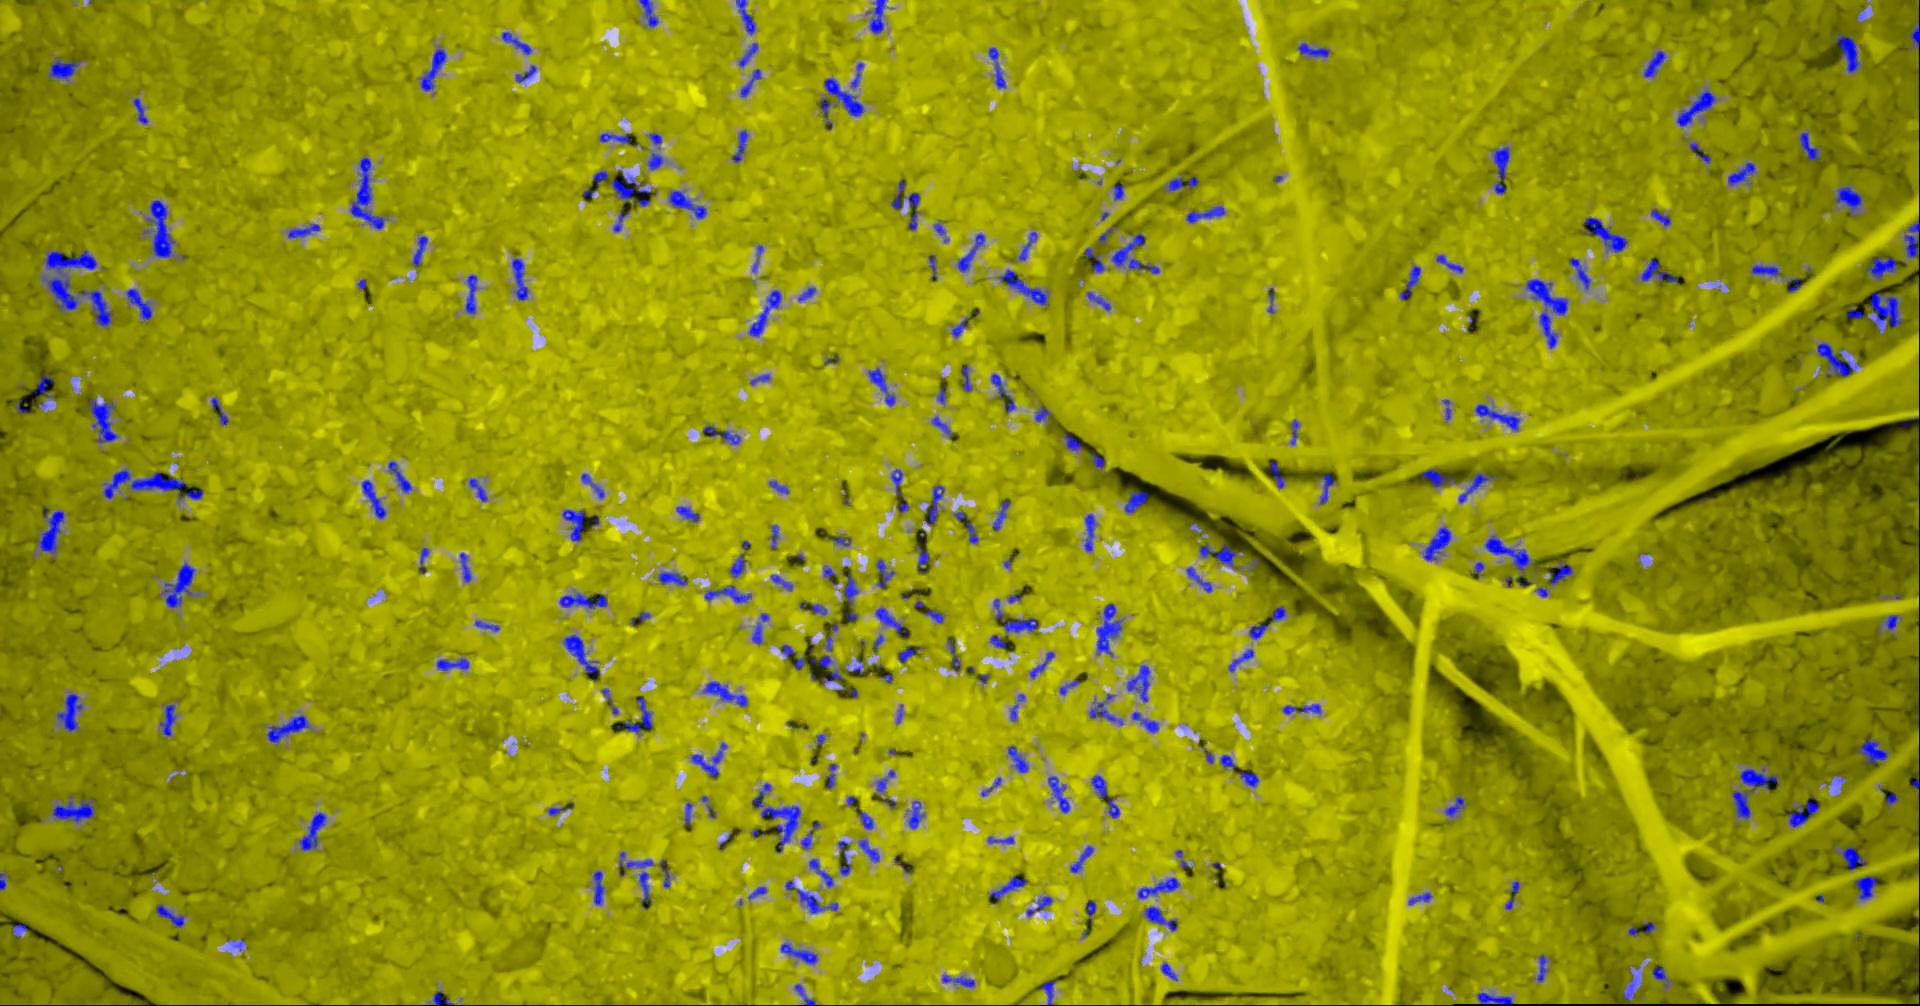ant: (750, 782, 800, 852), (103, 469, 202, 500), (1525, 278, 1567, 348), (349, 158, 387, 229), (1111, 232, 1159, 273), (618, 851, 653, 907), (997, 269, 1048, 304), (785, 880, 837, 913), (563, 634, 599, 680), (1484, 535, 1531, 570), (161, 561, 197, 607), (146, 199, 174, 257), (748, 290, 781, 337), (823, 77, 863, 116), (993, 598, 1037, 633), (890, 179, 919, 230), (1583, 217, 1627, 251), (1676, 89, 1716, 126), (88, 398, 117, 442), (1870, 291, 1902, 332), (1096, 603, 1121, 654), (691, 742, 726, 777), (77, 290, 112, 326), (1816, 342, 1853, 376), (37, 506, 63, 553), (1474, 403, 1519, 431), (1090, 775, 1119, 817), (265, 714, 309, 742), (618, 697, 651, 732), (702, 681, 747, 706), (1458, 473, 1495, 502), (420, 48, 446, 90), (668, 191, 706, 218), (298, 812, 326, 850), (1832, 33, 1859, 72), (1785, 795, 1818, 827), (957, 232, 984, 271), (1641, 258, 1683, 282), (52, 796, 94, 821), (874, 607, 908, 636), (361, 479, 386, 518), (867, 368, 894, 405), (56, 694, 83, 730), (610, 175, 650, 199), (988, 875, 1026, 901), (1738, 767, 1778, 791), (1422, 527, 1450, 560), (990, 373, 1015, 412), (1137, 876, 1178, 898), (1199, 542, 1236, 567), (1126, 664, 1149, 701), (1834, 185, 1862, 215), (1857, 737, 1887, 763), (559, 592, 607, 608), (1048, 775, 1069, 812), (1492, 146, 1509, 193), (703, 586, 750, 602), (126, 288, 151, 319), (1144, 906, 1176, 930), (1090, 701, 1123, 724), (924, 485, 943, 525), (780, 942, 817, 963), (510, 258, 528, 300), (808, 857, 833, 887), (387, 461, 411, 492), (1865, 257, 1897, 279), (702, 426, 740, 445), (1568, 257, 1590, 290), (582, 170, 608, 197), (502, 30, 531, 55), (735, 0, 756, 34), (48, 57, 79, 80), (561, 509, 583, 541), (1029, 652, 1054, 678), (1069, 845, 1093, 873), (155, 903, 183, 927), (865, 0, 885, 33), (1399, 265, 1420, 298), (988, 47, 1004, 86), (1185, 206, 1224, 222), (1186, 567, 1211, 592), (1839, 846, 1865, 870), (1727, 163, 1755, 185), (1420, 469, 1454, 486), (1643, 50, 1665, 77), (1903, 218, 1919, 258), (582, 473, 604, 498), (1549, 559, 1572, 584), (1007, 746, 1029, 772), (1799, 131, 1818, 160), (1228, 649, 1253, 671), (159, 702, 175, 735), (637, 0, 658, 27), (992, 499, 1010, 530), (750, 614, 768, 644), (1131, 711, 1158, 732), (740, 69, 759, 97), (1435, 254, 1463, 273), (463, 274, 477, 312), (1855, 875, 1877, 899), (1018, 231, 1036, 260), (876, 559, 894, 588), (1732, 790, 1750, 819), (1083, 246, 1103, 272), (1026, 895, 1051, 916), (731, 130, 747, 163), (843, 572, 858, 605), (33, 373, 53, 398), (1269, 459, 1285, 488), (210, 398, 227, 424), (876, 768, 894, 795), (1476, 992, 1512, 1005), (931, 417, 952, 438), (411, 235, 427, 265), (1319, 473, 1335, 503), (1124, 492, 1147, 512), (858, 840, 879, 862), (738, 42, 757, 66), (601, 688, 618, 714), (837, 840, 850, 875), (1297, 43, 1328, 57), (1166, 177, 1197, 191), (287, 224, 319, 238), (1622, 973, 1638, 1000), (1689, 142, 1710, 163), (794, 984, 815, 1005), (1087, 291, 1110, 310), (469, 478, 488, 500), (1283, 702, 1321, 714), (916, 542, 930, 573), (657, 572, 687, 586), (908, 800, 923, 828), (818, 97, 830, 130), (947, 636, 960, 669), (941, 974, 974, 987), (132, 97, 147, 123), (1039, 981, 1055, 1005), (592, 870, 603, 904), (516, 64, 536, 83), (1084, 513, 1095, 551), (436, 658, 469, 669), (1010, 694, 1023, 720), (982, 777, 1001, 796), (1444, 796, 1463, 815), (951, 316, 969, 337), (1651, 965, 1669, 986), (458, 553, 471, 580), (599, 132, 630, 144), (676, 506, 698, 521), (770, 574, 792, 589), (850, 62, 863, 86), (1650, 208, 1670, 225), (1059, 678, 1079, 695), (1750, 264, 1779, 276), (613, 210, 629, 231), (729, 554, 744, 575), (432, 989, 453, 1005), (890, 467, 902, 495), (1063, 432, 1081, 450), (1161, 962, 1177, 981), (1248, 622, 1269, 638), (898, 647, 918, 662), (1408, 892, 1432, 904), (750, 244, 762, 271), (1910, 14, 1919, 47), (474, 620, 499, 631), (1239, 771, 1258, 786), (659, 859, 669, 887), (965, 521, 978, 542), (961, 365, 971, 391), (924, 608, 943, 622), (858, 810, 872, 829), (768, 480, 789, 493), (418, 547, 428, 573), (822, 669, 842, 682), (797, 287, 815, 301), (809, 655, 830, 667), (825, 763, 836, 788), (1537, 954, 1545, 981), (1034, 405, 1049, 420), (11, 922, 27, 937), (648, 152, 662, 169), (1090, 451, 1103, 467), (1289, 419, 1298, 445), (800, 829, 811, 848), (1785, 277, 1801, 291), (1271, 606, 1285, 621), (989, 634, 1004, 648), (780, 644, 795, 658), (1220, 754, 1236, 768), (1884, 614, 1897, 630), (1084, 901, 1095, 921), (928, 254, 936, 281), (987, 836, 1013, 843), (748, 887, 766, 898), (750, 373, 770, 384), (830, 536, 850, 546), (771, 525, 778, 547), (1846, 307, 1863, 318), (648, 132, 662, 144), (1884, 793, 1898, 804), (1112, 184, 1123, 199), (810, 603, 825, 614), (937, 385, 945, 404), (684, 801, 691, 824)
